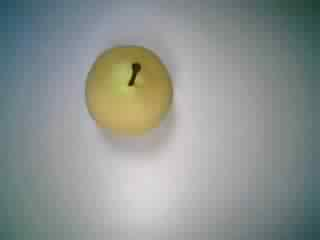pear: (74, 39, 180, 147)
